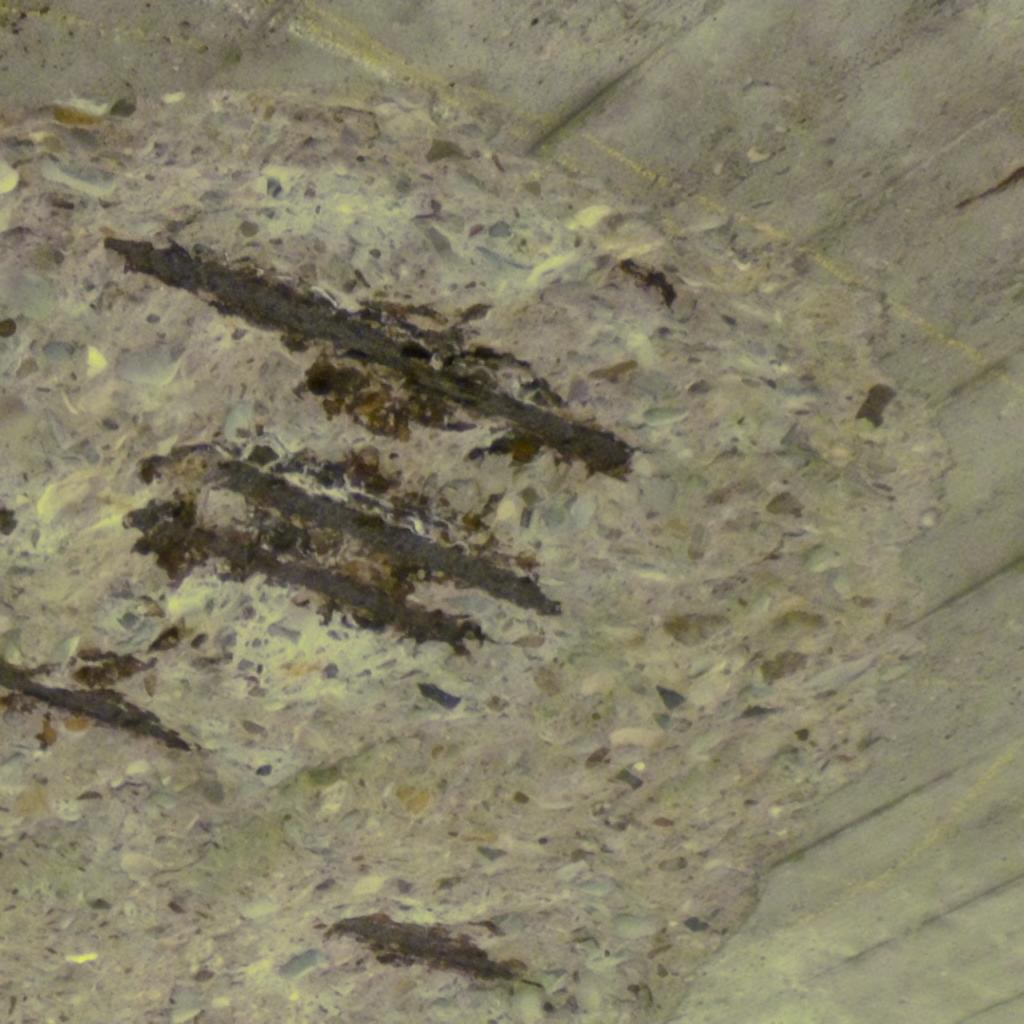exposed_rebar: (104, 238, 634, 475), (126, 444, 560, 650), (0, 660, 190, 749), (328, 914, 516, 980)
spalling: (0, 92, 942, 1024)
